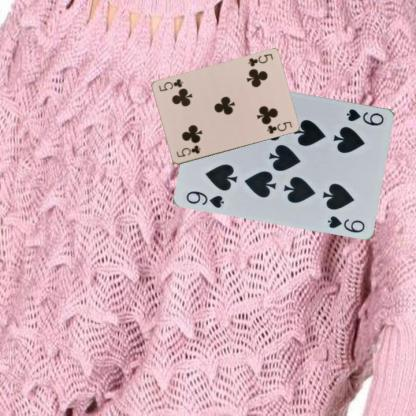5c: (245, 51, 274, 68), (174, 143, 202, 158)
9s: (344, 106, 386, 127), (184, 188, 226, 209)
